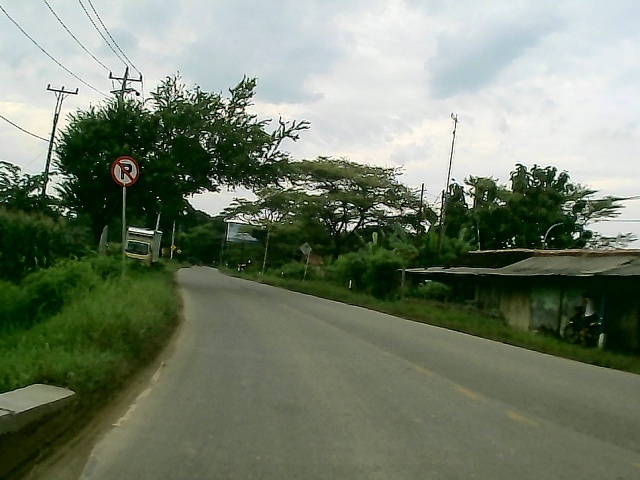Dilarang parkir: (110, 152, 141, 189)
